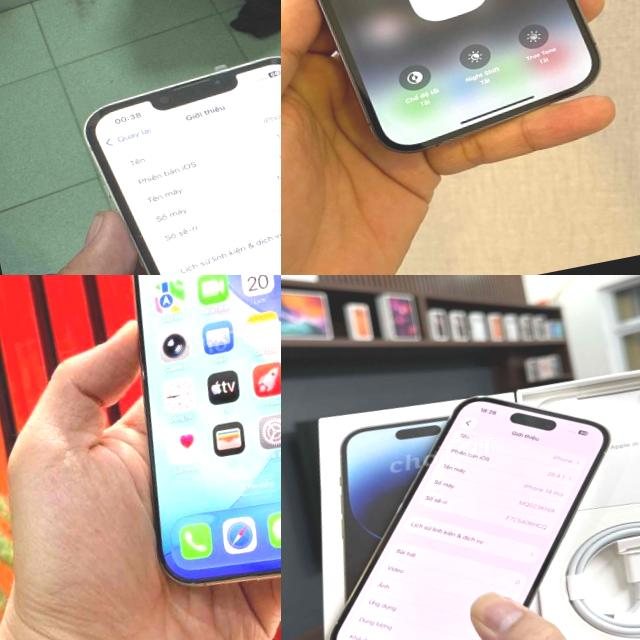gen_12_13: (64, 26, 281, 275)
gen_14: (281, 374, 640, 640), (281, 0, 616, 171)
gen_16: (71, 275, 281, 609)
